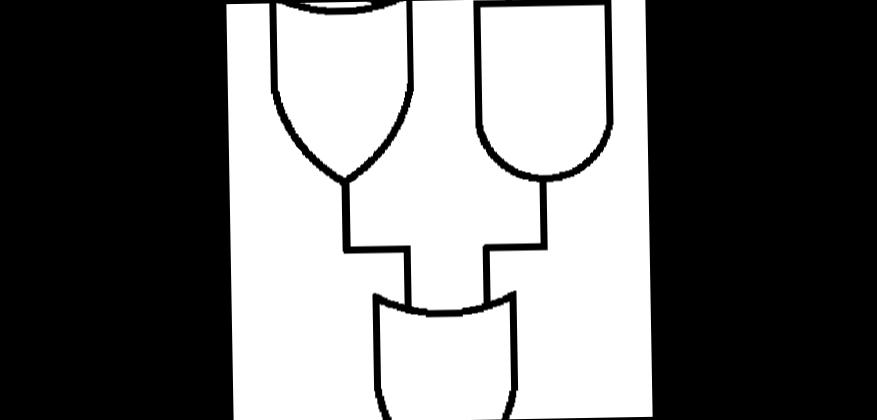and: (463, 0, 620, 191)
nor: (359, 281, 523, 420)
